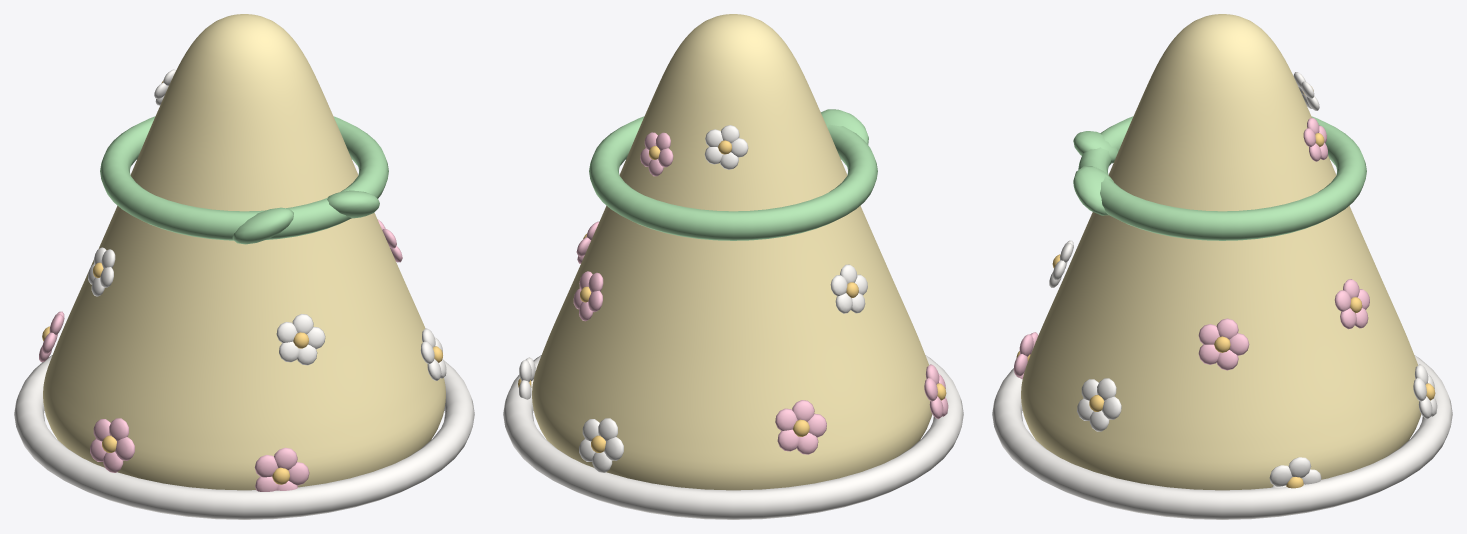
The model's file is flower_dress.glb.
3 renders of one model, left to right at view 1: azimuth 30°, elevation 25°; view 2: azimuth 150°, elevation 25°; view 3: azimuth 270°, elevation 25°, orthographic.
Visible parts, largest first — view 1: Body; view 2: Body; view 3: Body.
Boxes of the visible parts, bbox=[...] form: Body: bbox=[14, 14, 474, 519]; Body: bbox=[503, 14, 963, 519]; Body: bbox=[992, 14, 1452, 519].
Bounding box in the file's own units: 0.4939 × 0.532 × 0.4939.
